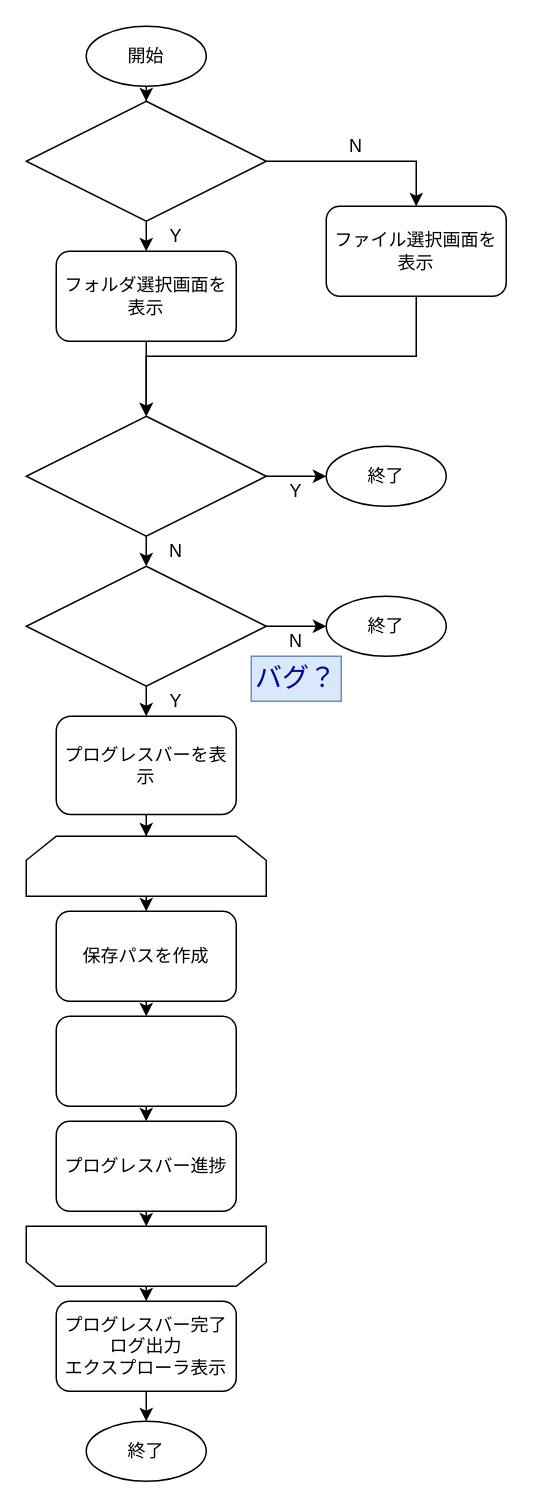
The diagram is 533 pixels wide and 1508 high, and some of its shapes have lost their labels. The box of each missing label's shape, as (x1, y1, x2, y2) in pixels:
ファイルは 暗号化されている？: (25, 565, 266, 686)
ファイルループ: (25, 835, 266, 896)
ファイルループ終了: (25, 1225, 266, 1286)
フォルダを選択？: (25, 100, 266, 221)
復号: (55, 1015, 236, 1106)
選択された ファイル数が0？: (25, 415, 266, 536)
